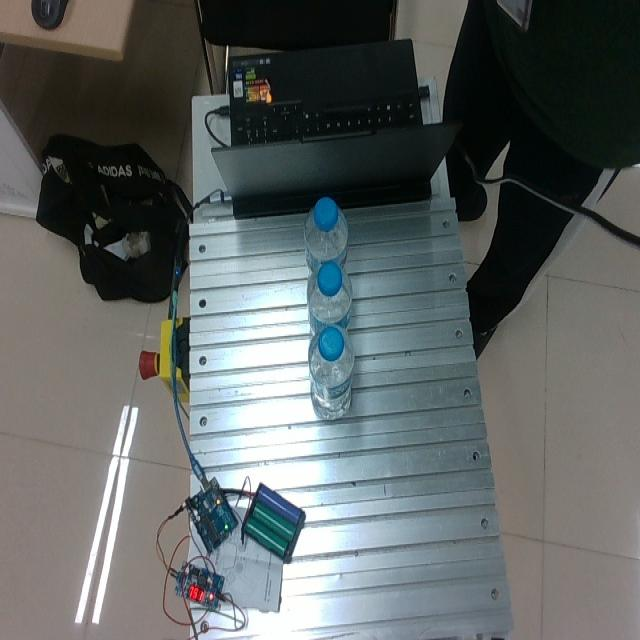lavie: (307, 323, 355, 417), (303, 197, 349, 275), (307, 260, 353, 336)
